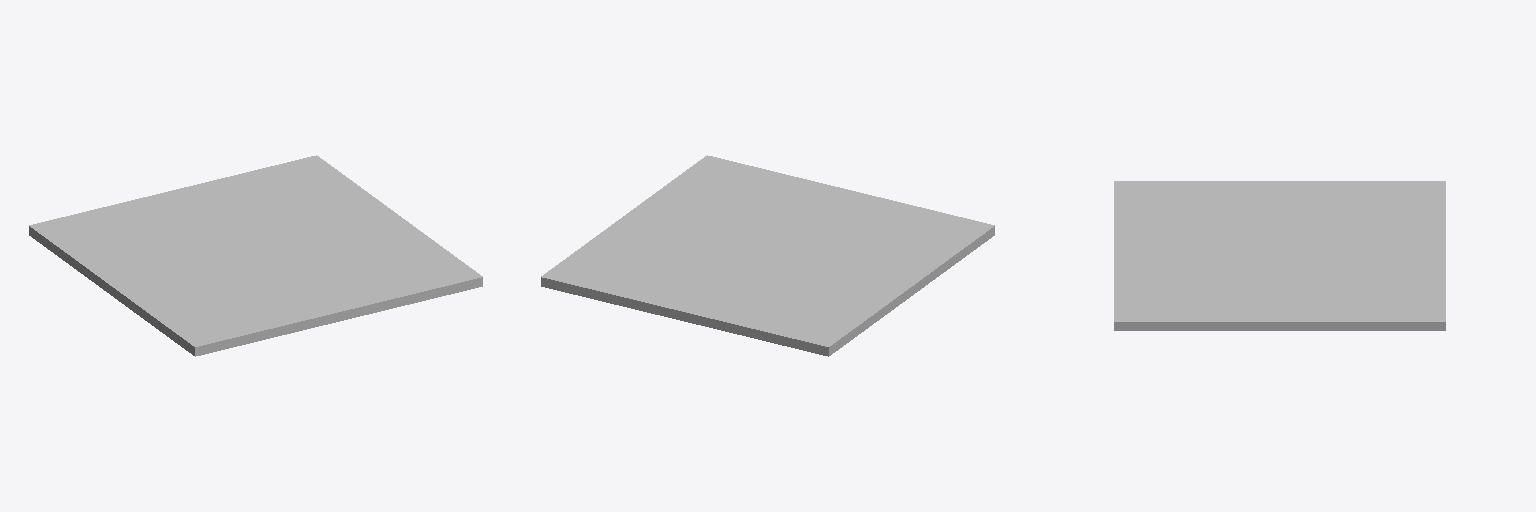
File: Lava for Biome.obj
The picture shows the model from 3 angles: view 1: azimuth 30°, elevation 25°; view 2: azimuth 150°, elevation 25°; view 3: azimuth 270°, elevation 25°; orthographic projection.
Visible parts, largest first — view 1: object 1; view 2: object 1; view 3: object 1.
Part boxes in pixels (bbox=[...]): object 1: bbox=[29, 155, 482, 356]; object 1: bbox=[541, 155, 994, 356]; object 1: bbox=[1114, 181, 1445, 330].
Size of the model in its own units: 25.6 by 0.8 by 25.6.